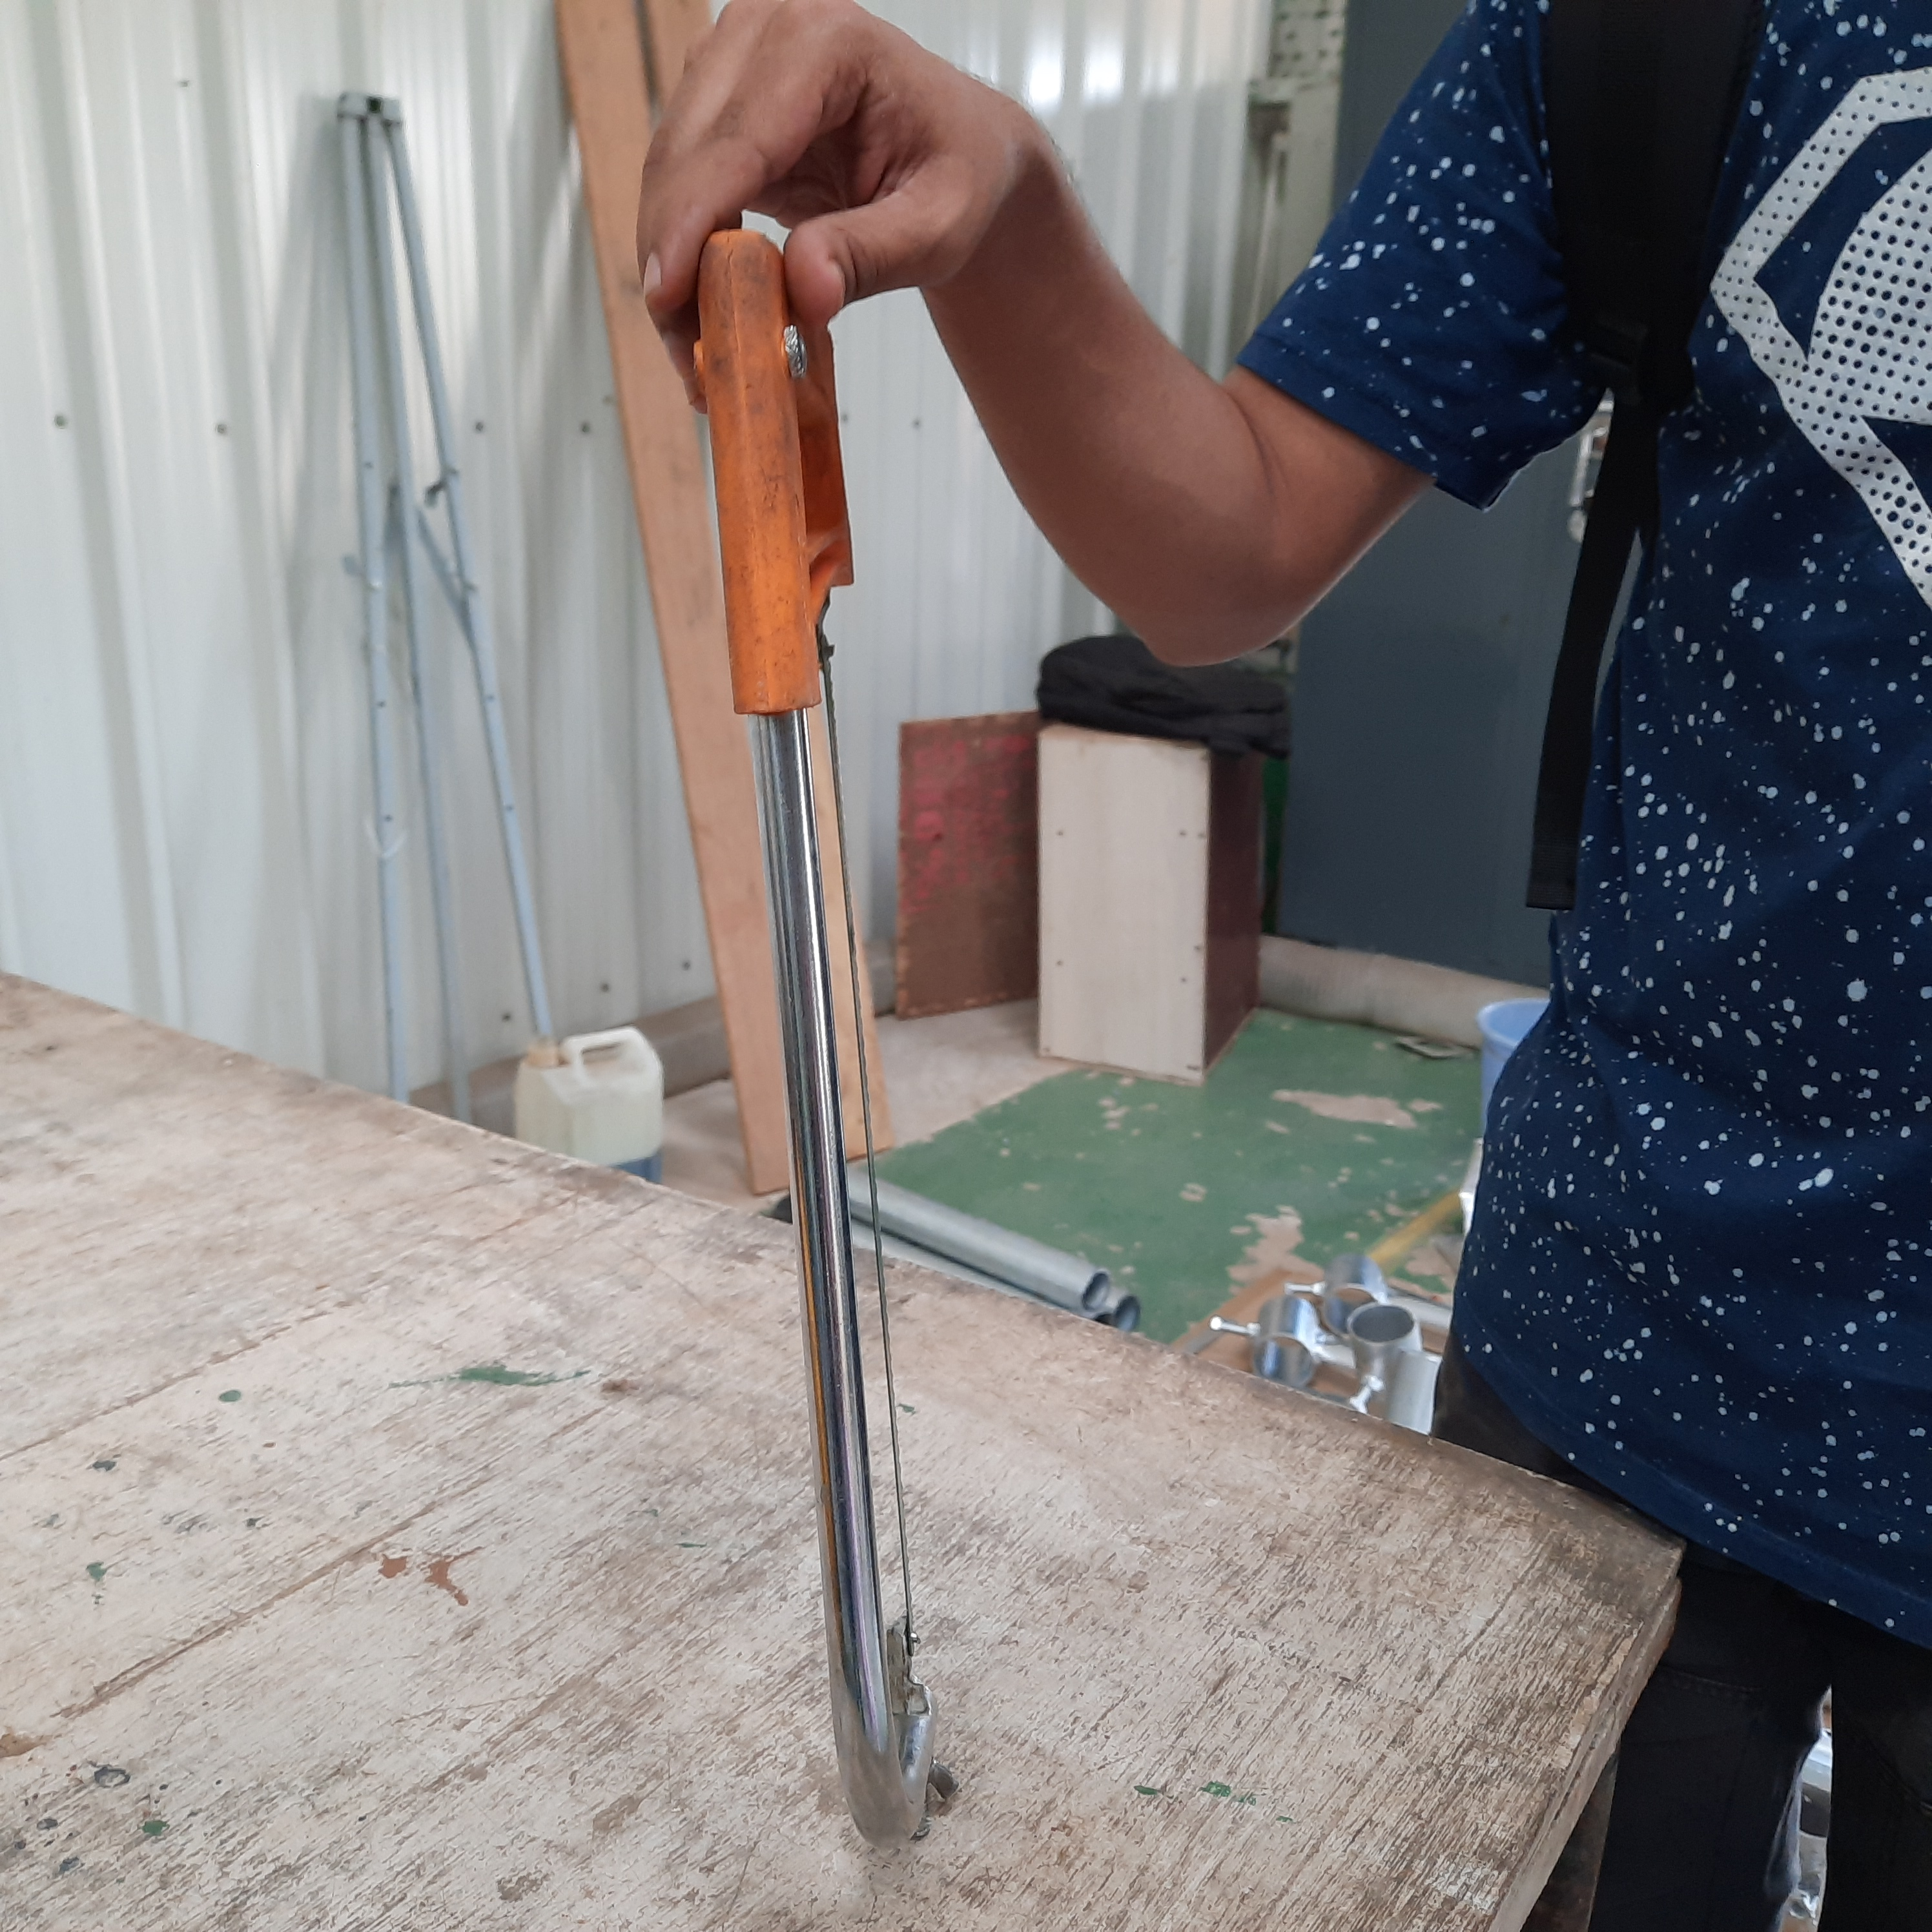Hexaframe: (594, 251, 1079, 1877)
